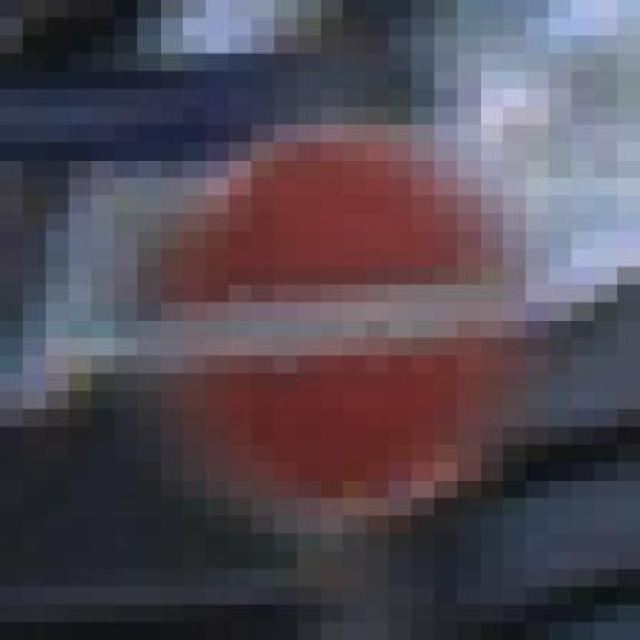B2: (163, 120, 527, 528)
